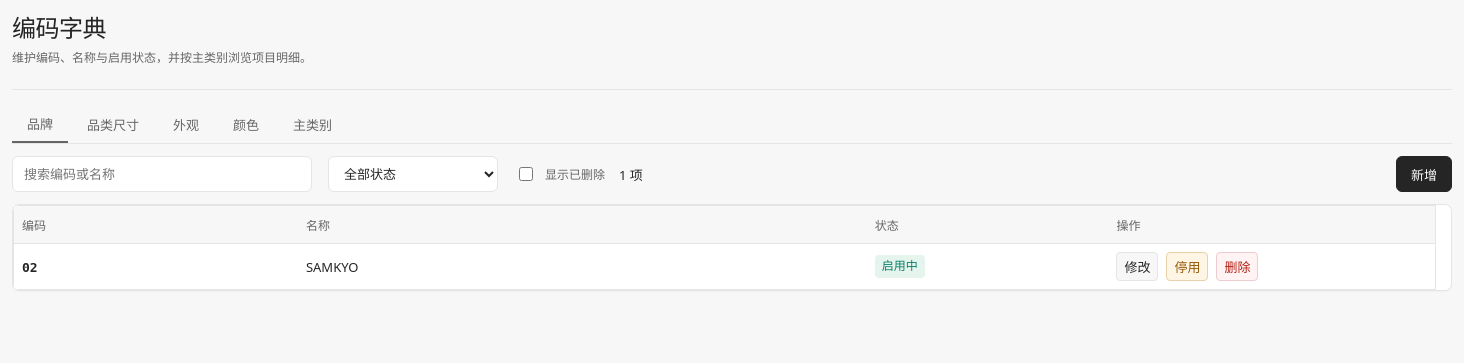
Test: DictionariesPage › shows a current loading failure without retaining stale actionable rows
Expected: the text "SAMKYO" is shown, [298,244,867,290]
Click the tab "主类别". click: {"x": 313, "y": 124}
box: [278,106,347,143]
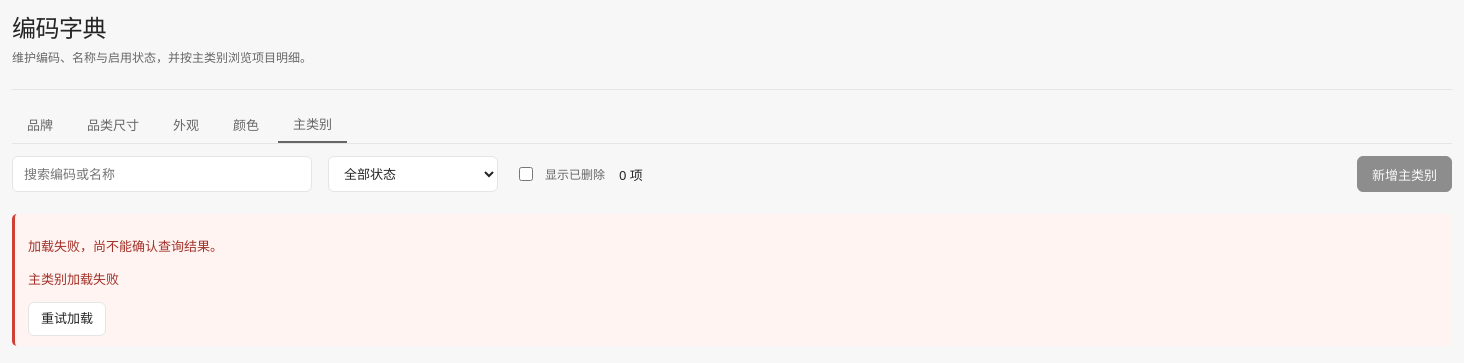
Expected: the text "主类别加载失败" is shown, [28,270,119,288]
Expected: the text "SAMKYO" is gone
